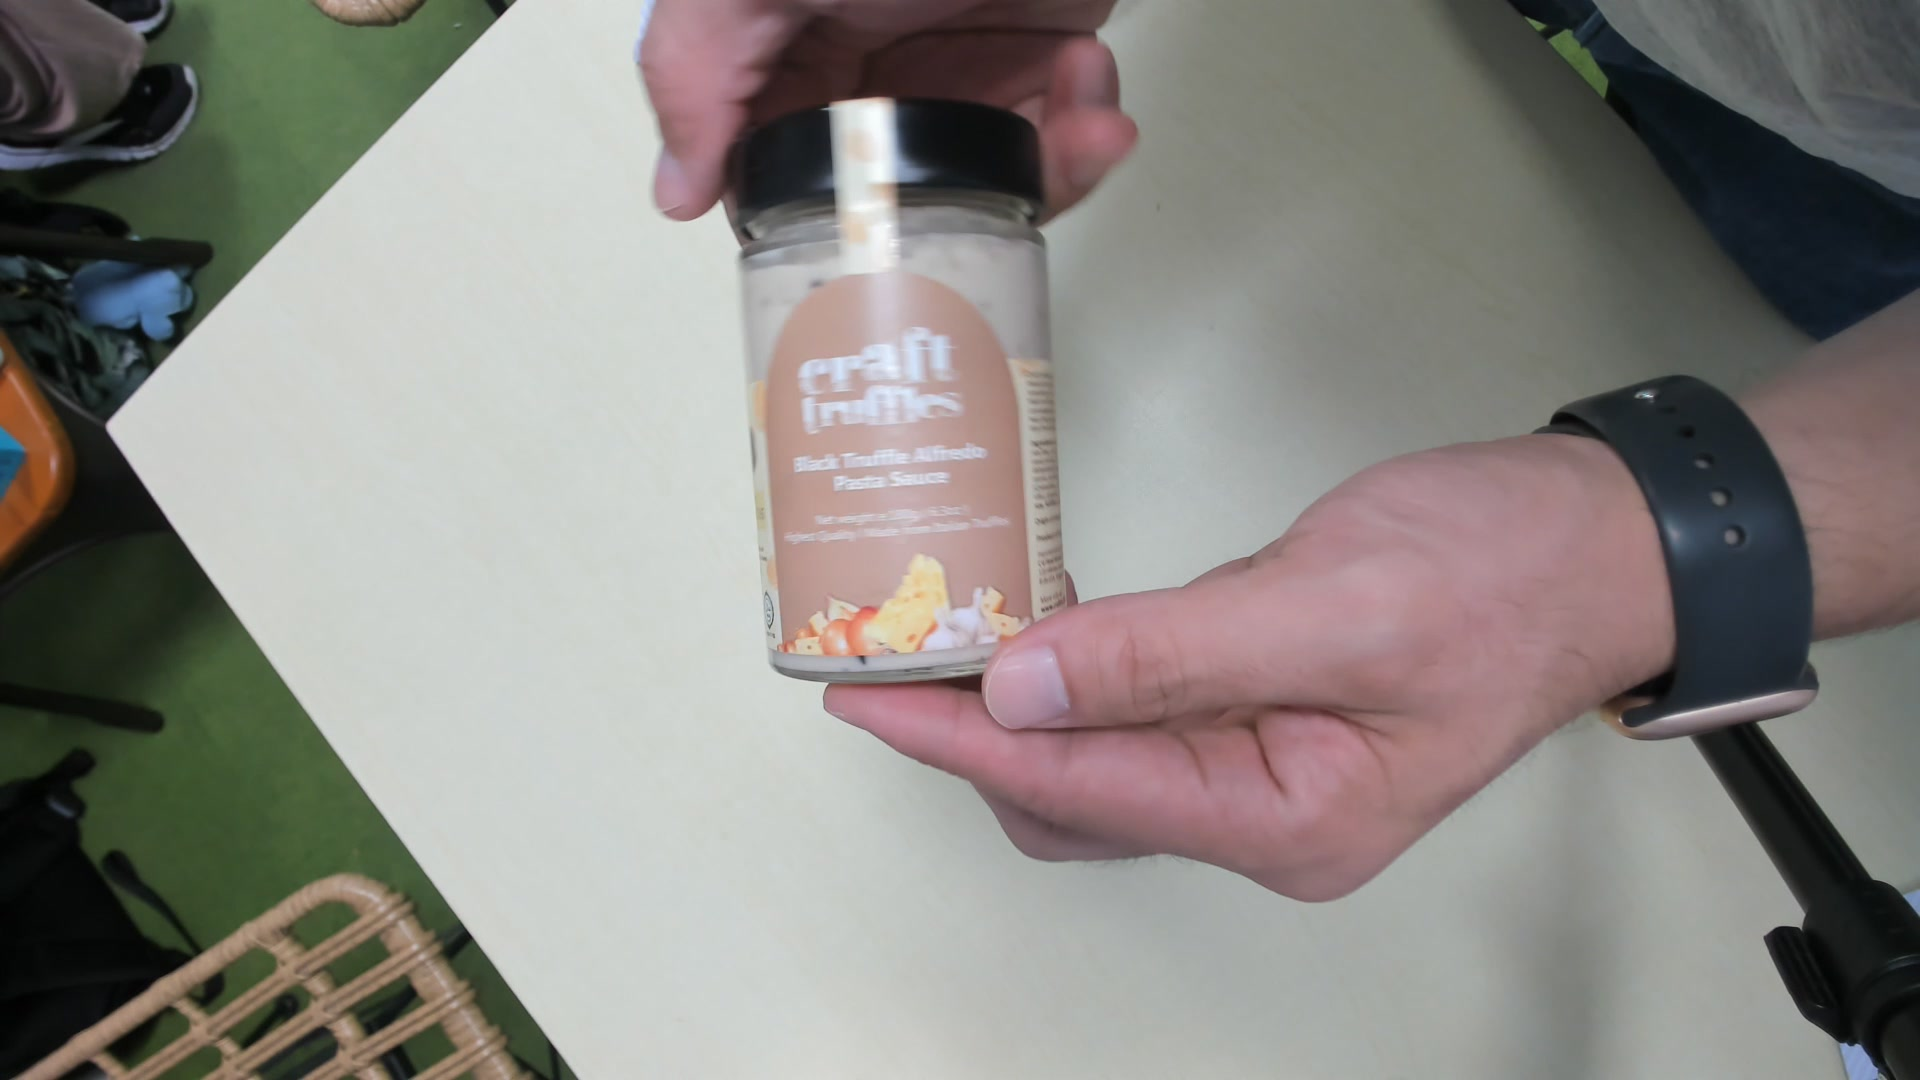PastaSauce_100-199g_Halal_NonHealthy: (717, 94, 1068, 694)
